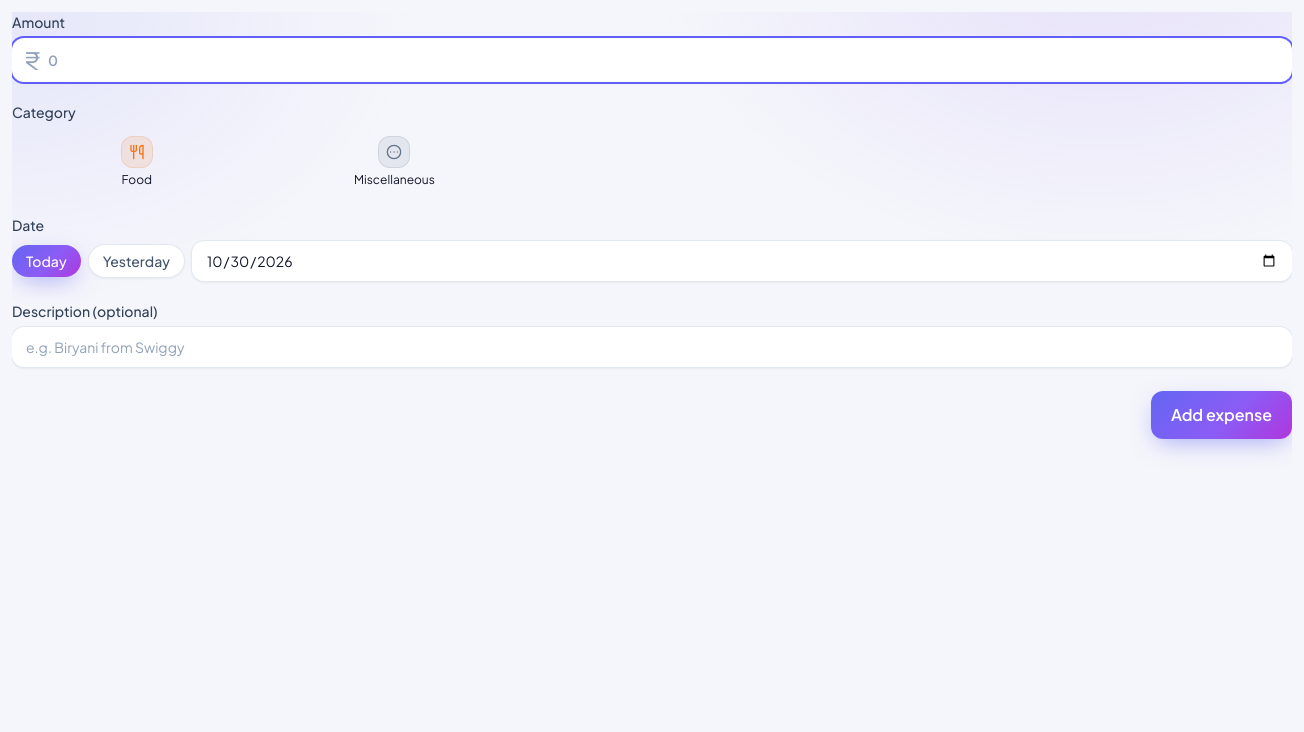
Test: ExpenseForm › shows errors and does not save an empty form
This screenshot has width=1304, height=732.
Click the button "Add expense" at (1221, 415), box [1151, 391, 1292, 439]
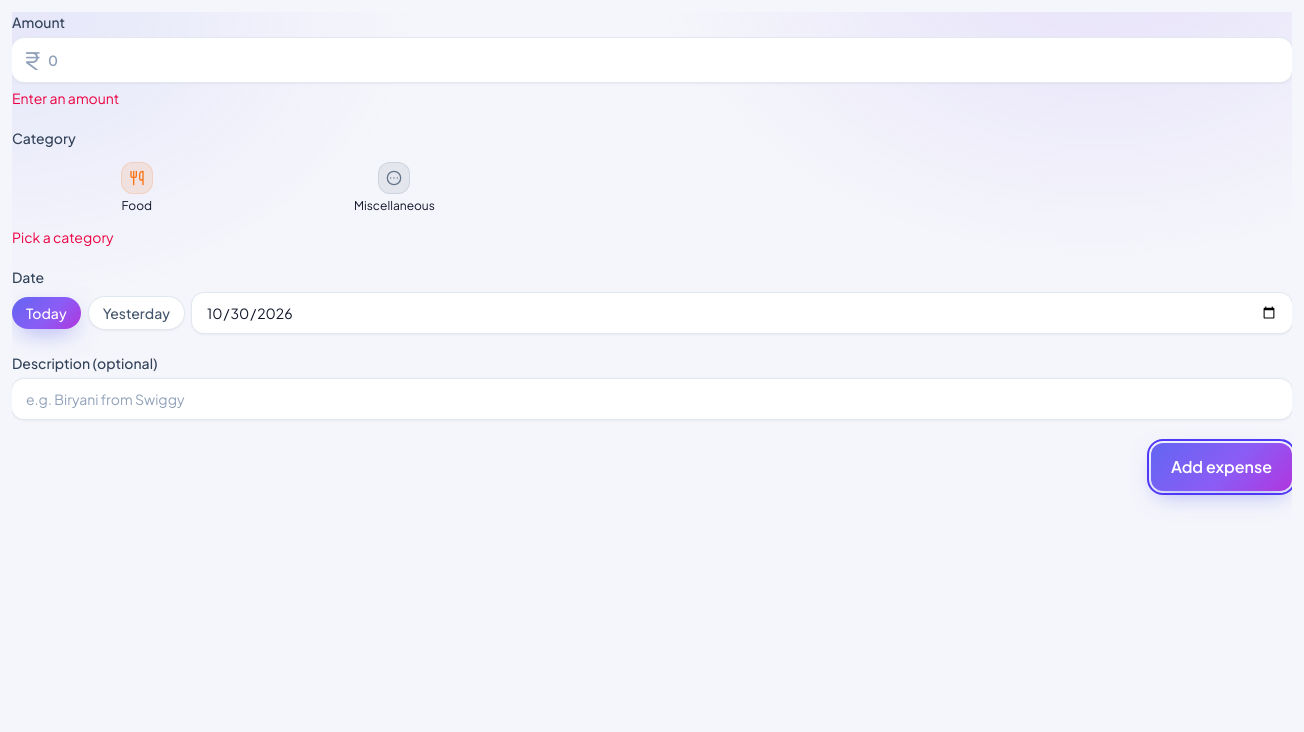
Check: the text "Enter an amount" is shown, box [12, 89, 119, 107]
Check: the text "Pick a category" is shown, box [12, 228, 114, 246]
